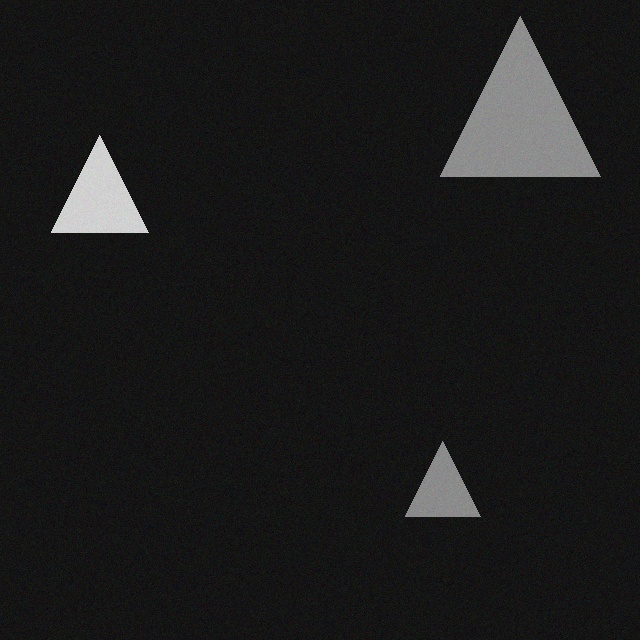triangle: (446, 24, 606, 184), (57, 143, 154, 240), (411, 449, 486, 524)
